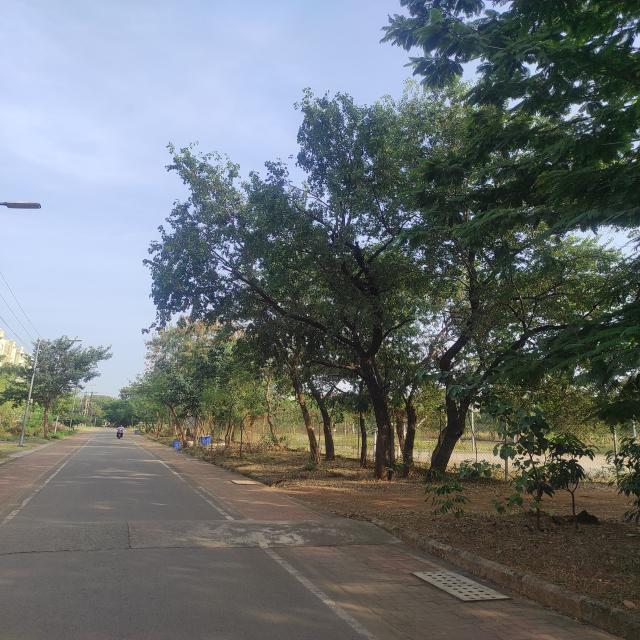Devakanchan tree: (195, 73, 506, 465)
